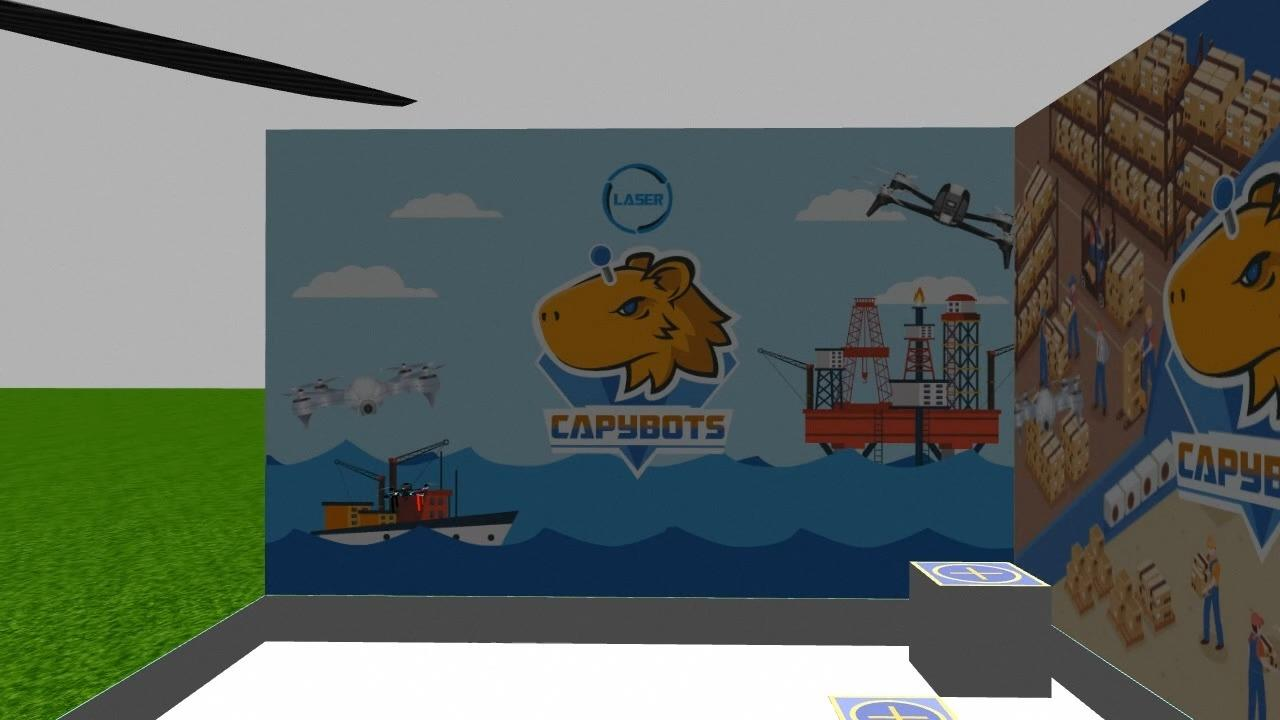UAV: (363, 468, 447, 524)
